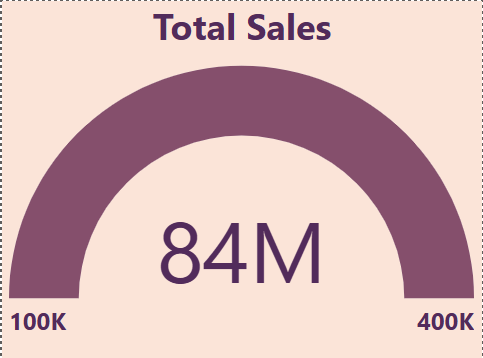

This screenshot's page, from the dashboard's own definition file:
{"tool":"powerbi","page":{"name":"Tooltip","canvas":[320,240],"ordinal":1},"visuals":[{"type":"gauge","title":"Total Sales","fields":{"Y":["_Measure.Total_Sales"],"TargetValue":["_Measure.ForeCast2009"]},"box":[0,0,320,240],"z":0}]}

Visuals, with their boxes in screenshot pixels (x1, y1, x2, y2), scaled from the page's 320x240 canvas onto the 483x358 screenshot:
"Total Sales" gauge: pyautogui.locateOnScreen(0, 0, 482, 357)
